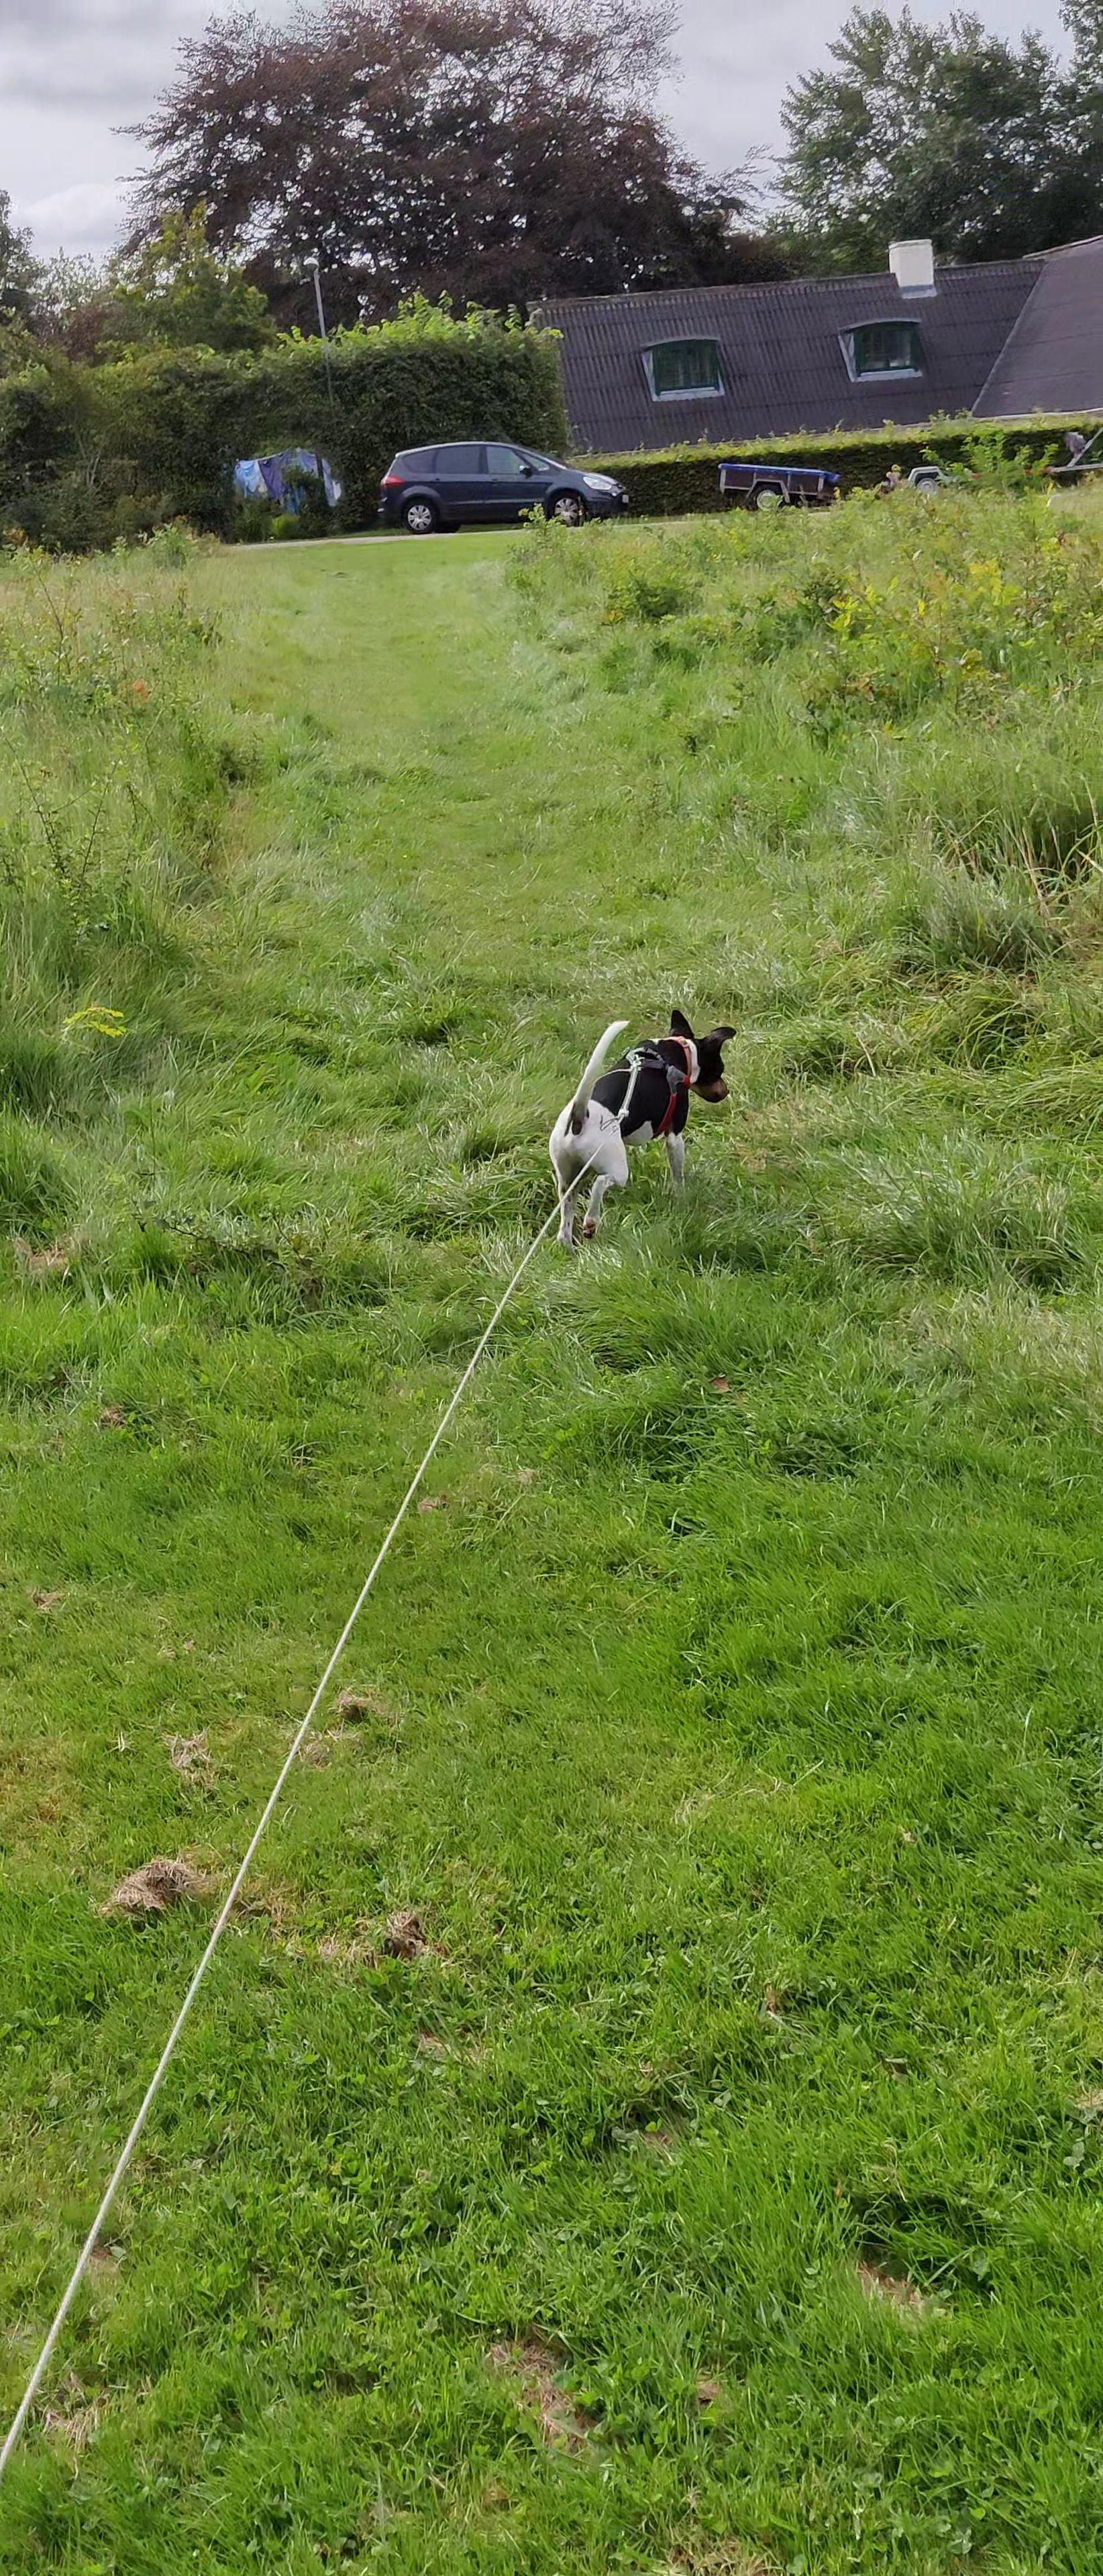Dog: (534, 1000, 741, 1252)
